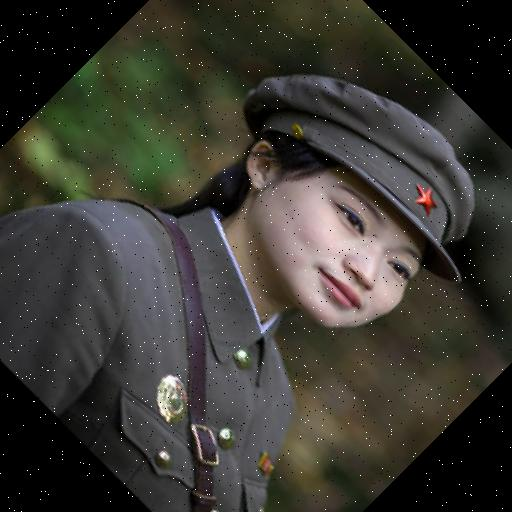north army: (20, 39, 494, 495)
